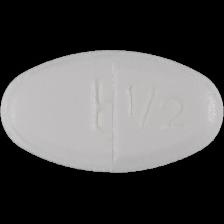54868-4370: (0, 0, 224, 224)
